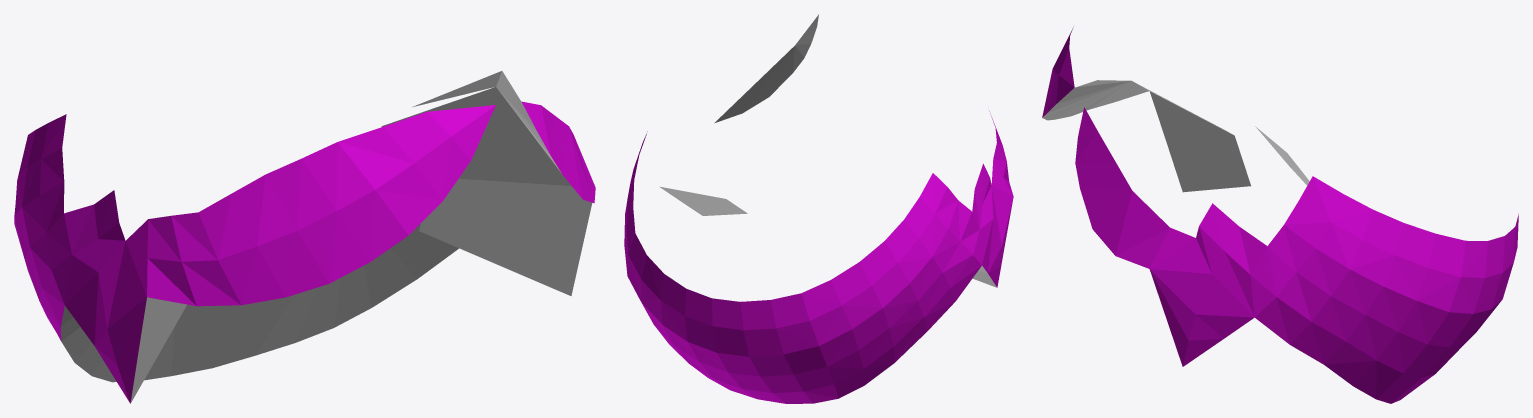
3 renders of one model, left to right at view 1: azimuth 30°, elevation 25°; view 2: azimuth 150°, elevation 25°; view 3: azimuth 270°, elevation 25°, orthographic. The views are drawn at different scales.
Parts seen in each view (by area): view 1: shape; view 2: shape; view 3: shape.
Boxes of the visible parts, x1,y1,x2,y2 form: shape: (14, 71, 595, 403); shape: (624, 14, 1013, 403); shape: (1042, 27, 1518, 403).
Bounding box in the file's own units: 56.78 × 46.32 × 59.62.
